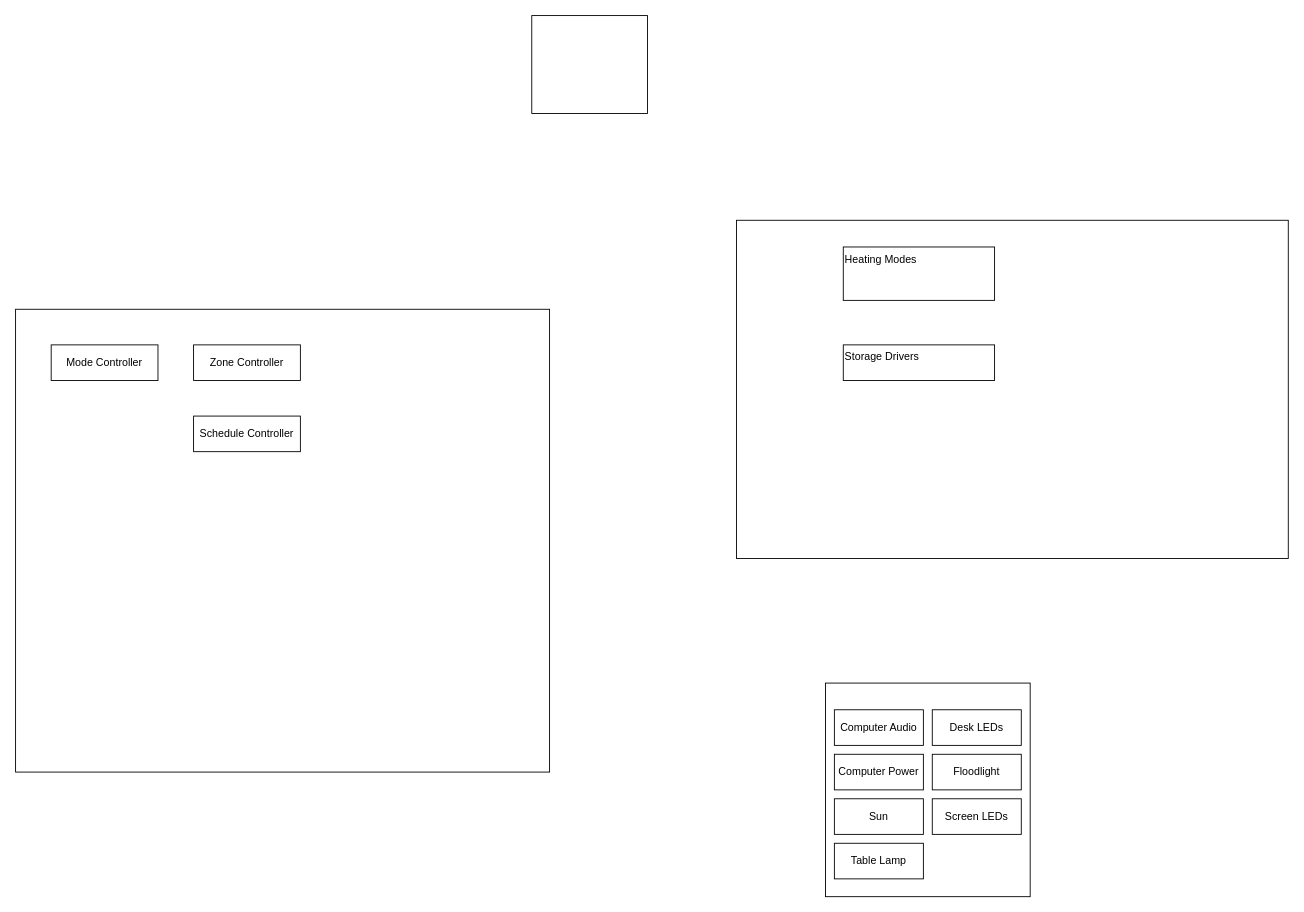
The diagram is 1304 pixels wide and 912 high, and some of its shapes have lost their labels. The shapes that lost their labels are listed below. From the top down, each one's box as (x1, y1, x2, y2) in pixels, then its label:
(531, 15, 647, 113): Persistent Storage
(736, 219, 1288, 558): Helpers
(15, 308, 550, 772): Heating Controller
(825, 682, 1030, 897): Straight through devices
